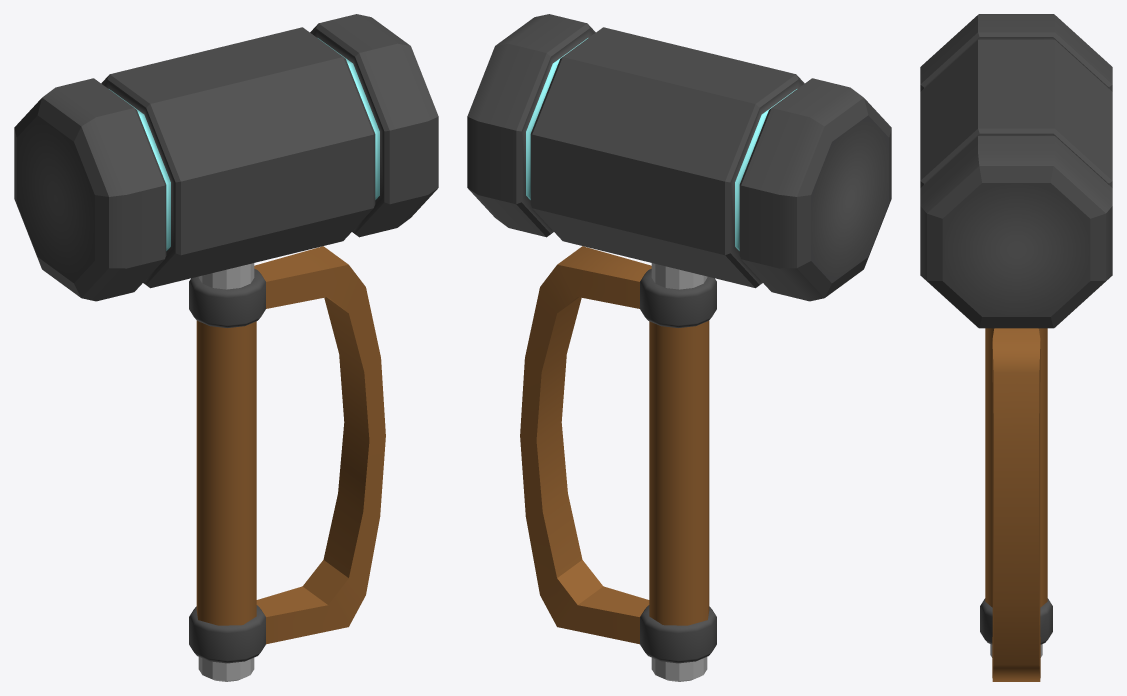
Rendered from Hammer_Lv4.fbx.
3 renders of one model, left to right at view 1: azimuth 30°, elevation 25°; view 2: azimuth 150°, elevation 25°; view 3: azimuth 270°, elevation 25°, orthographic. The views are drawn at different scales.
Visible parts, largest first — view 1: pCube1, polySurface6, pCube4, pCylinder1; view 2: pCube1, polySurface6, pCube4, pCylinder1; view 3: pCube1, polySurface6, pCube4.
Boxes of the visible parts, box(x1,y1,x2,y2) form: pCube1: box(14, 14, 438, 301); polySurface6: box(189, 246, 385, 663); pCube4: box(196, 320, 256, 625); pCylinder1: box(198, 263, 254, 681); pCube1: box(467, 14, 891, 301); polySurface6: box(520, 246, 716, 663); pCube4: box(649, 320, 709, 625); pCylinder1: box(651, 263, 707, 681); pCube1: box(920, 14, 1112, 328); polySurface6: box(980, 328, 1052, 681); pCube4: box(985, 328, 1047, 607).
Size of the model in its own units: 2.79 by 4.76 by 1.44.
